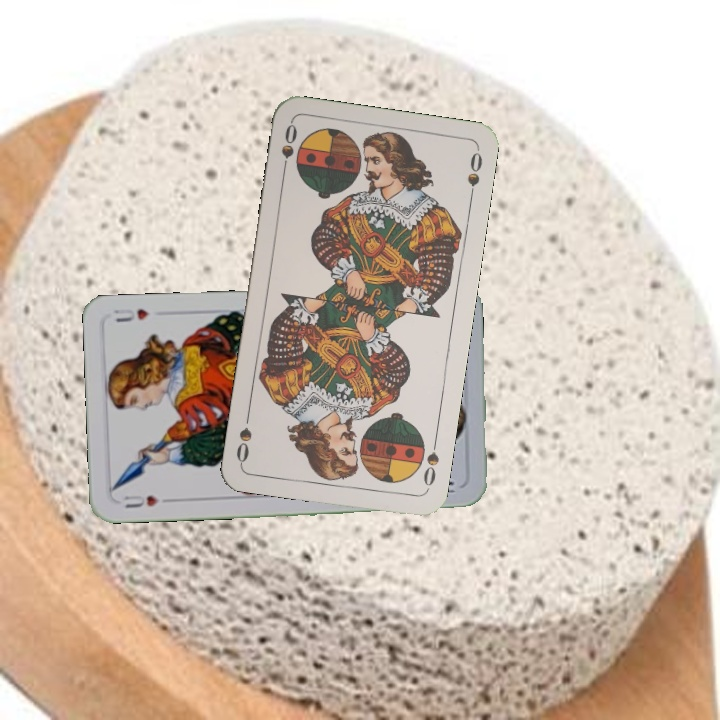HU: (119, 491, 161, 511)
SO: (277, 119, 300, 178), (419, 434, 442, 493)
